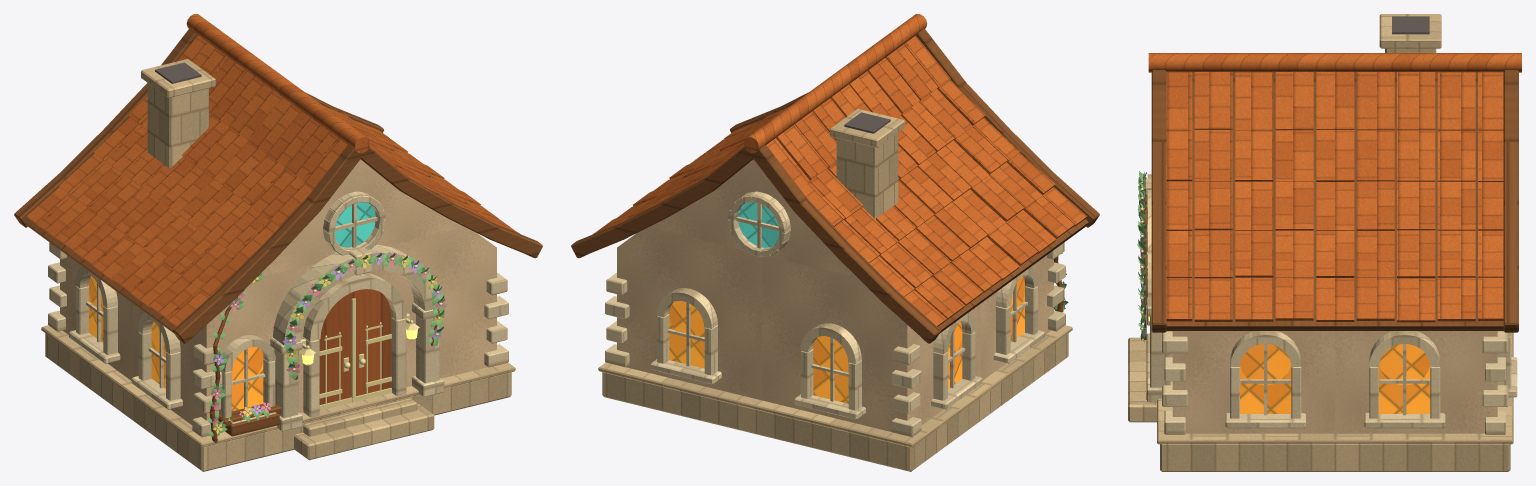
File: cottage-clay-annex-CJ9Nesdr.glb
3 views of the same model, side by side, from view 1: azimuth 30°, elevation 25°; view 2: azimuth 150°, elevation 25°; view 3: azimuth 270°, elevation 25° (orthographic). The views are drawn at different scales.
Parts seen in each view (by area): view 1: cottage-clay-annex; view 2: cottage-clay-annex; view 3: cottage-clay-annex.
Boxes of the visible parts, x1,y1,x2,y2 form: cottage-clay-annex: (14, 14, 542, 471); cottage-clay-annex: (571, 14, 1099, 471); cottage-clay-annex: (1128, 14, 1521, 471).
Bounding box in the file's own units: 6.18 × 4.89 × 5.21.
16 materials, 8 textured.
